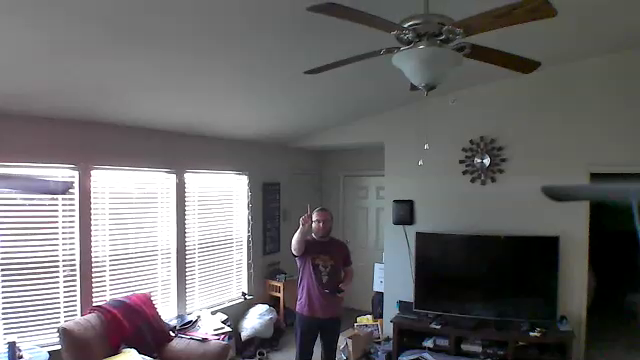up: (294, 202, 311, 230)
